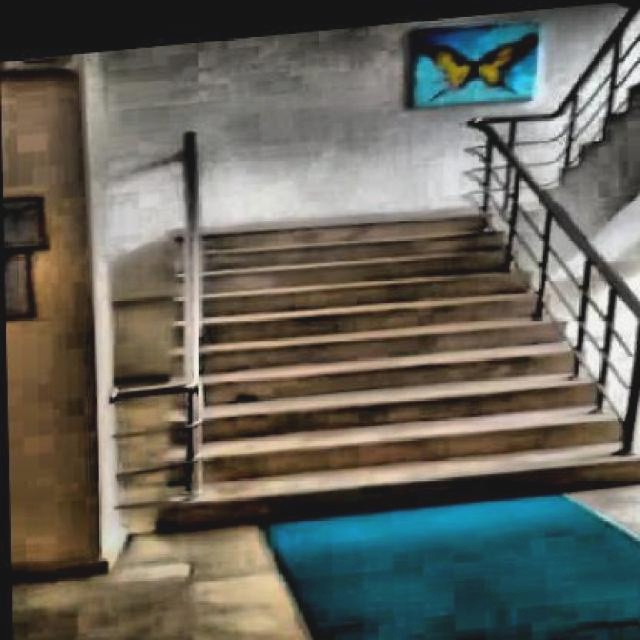stair: (128, 175, 640, 529)
